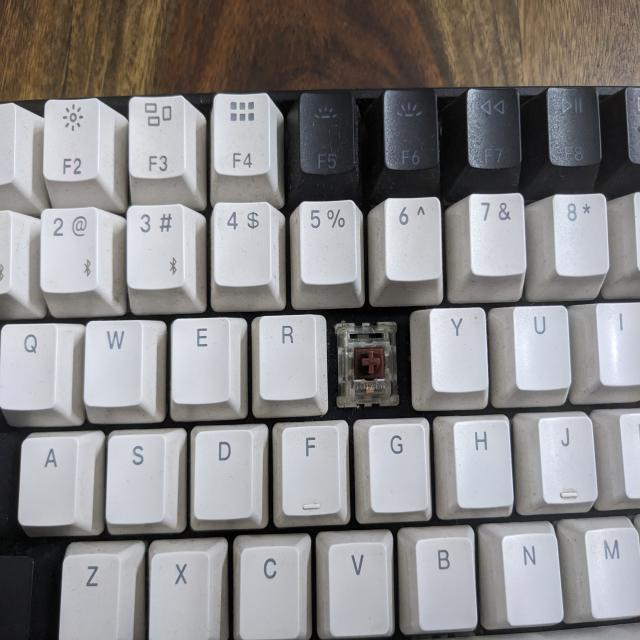key-switch: (337, 322, 400, 400)
